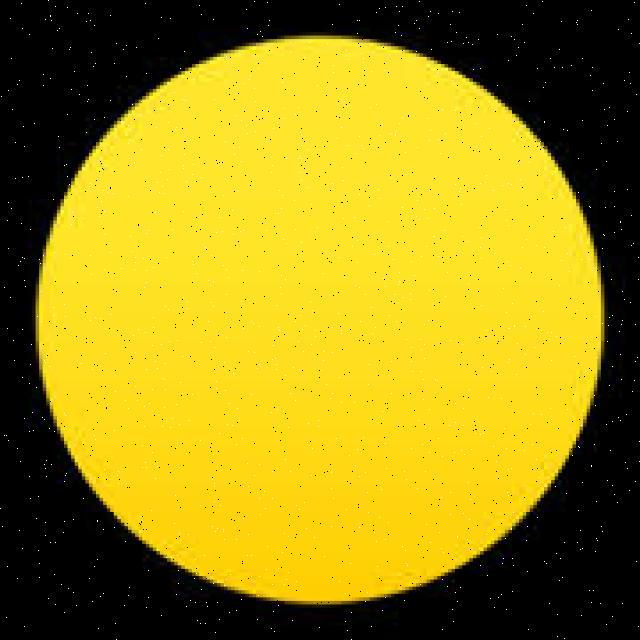Circle: (32, 36, 604, 608)
